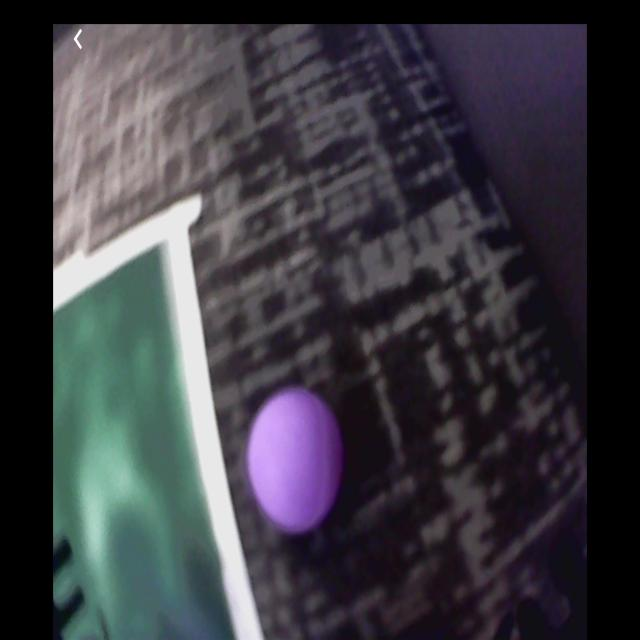ball: (246, 389, 348, 538)
